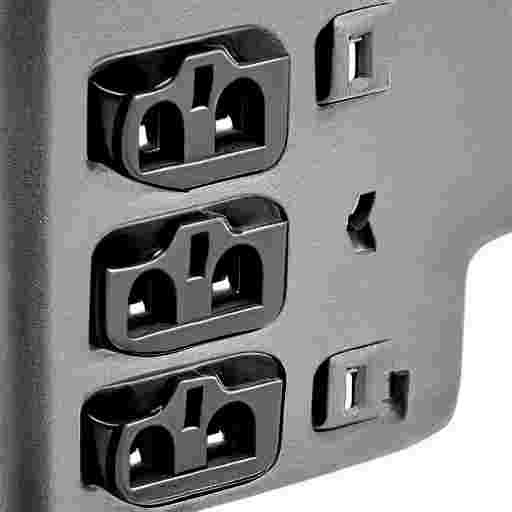power outlet: (383, 64, 459, 216)
